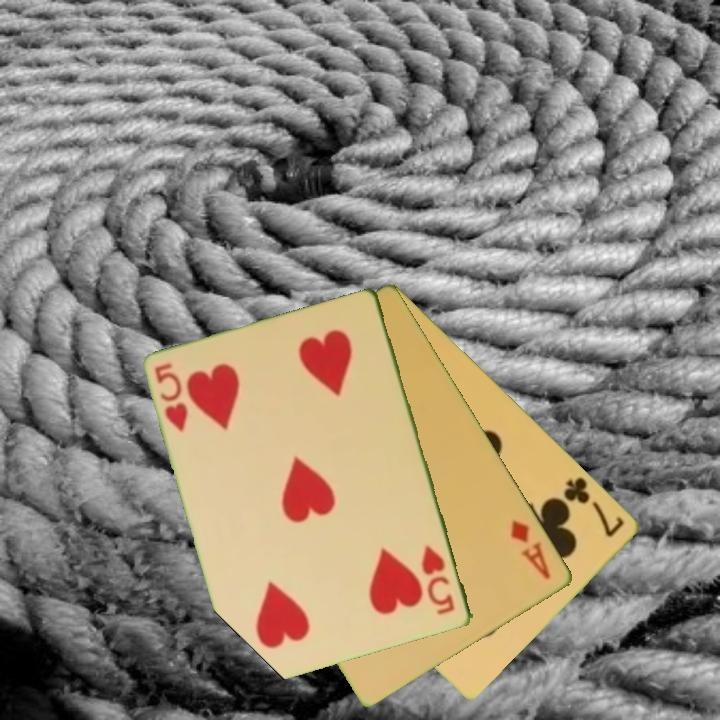5h: (151, 360, 192, 435), (418, 542, 458, 618)
7c: (560, 473, 628, 541)
Ad: (507, 516, 554, 583)
